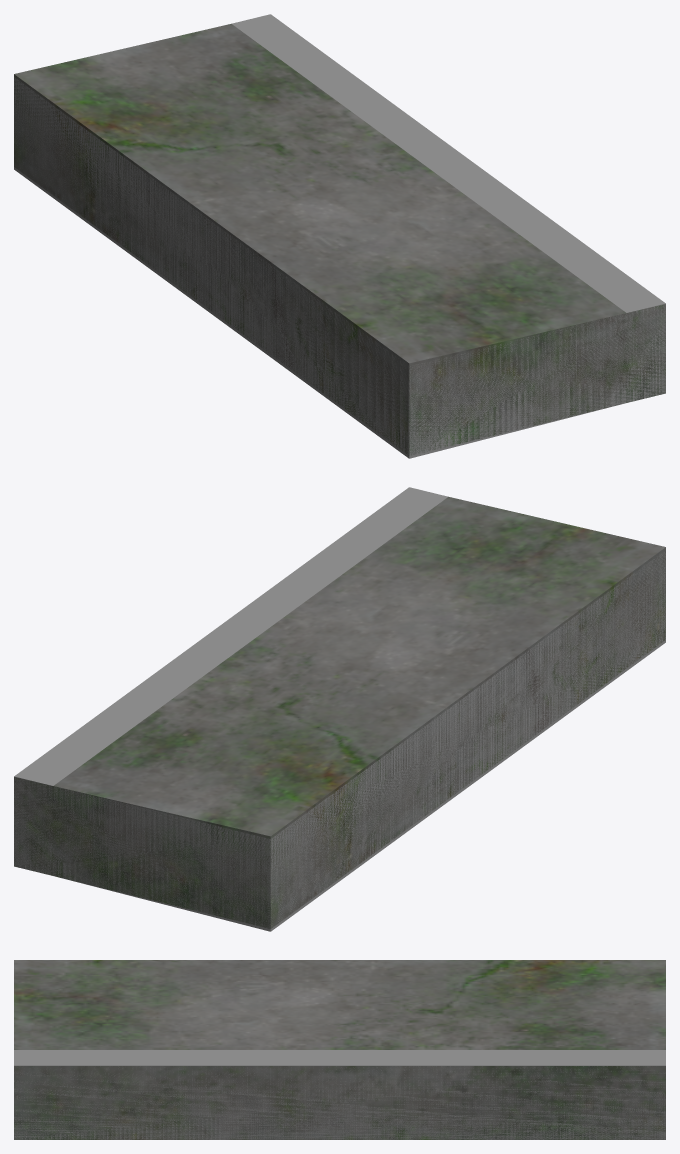
The model's file is Scene_Rock_ShiTiao_4.fbx.
3 renders of one model, top to bottom at view 1: azimuth 30°, elevation 25°; view 2: azimuth 150°, elevation 25°; view 3: azimuth 270°, elevation 25°, orthographic. The views are drawn at different scales.
Visible parts, largest first — view 1: Scene_Rock_ShiTiao_4, Scene_Rock_ShiTiao_4_Xzm; view 2: Scene_Rock_ShiTiao_4, Scene_Rock_ShiTiao_4_Xzm; view 3: Scene_Rock_ShiTiao_4, Scene_Rock_ShiTiao_4_Xzm.
Part boxes in pixels (bbox=[...]): Scene_Rock_ShiTiao_4: bbox=[14, 23, 665, 455]; Scene_Rock_ShiTiao_4_Xzm: bbox=[14, 14, 665, 458]; Scene_Rock_ShiTiao_4: bbox=[14, 496, 665, 928]; Scene_Rock_ShiTiao_4_Xzm: bbox=[14, 487, 665, 931]; Scene_Rock_ShiTiao_4: bbox=[14, 960, 665, 1139]; Scene_Rock_ShiTiao_4_Xzm: bbox=[14, 1050, 665, 1139].
Bounding box in the file's own units: 150 × 53.29 × 400.
